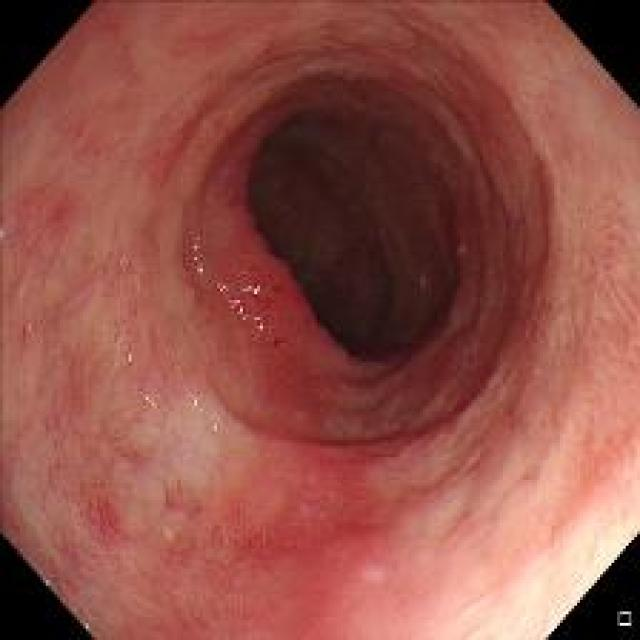contrast: (240, 104, 462, 365)
saturation: (489, 572, 605, 628)
specularity: (216, 274, 272, 341), (182, 386, 224, 435), (188, 230, 214, 286), (116, 319, 140, 374), (131, 392, 168, 411)
